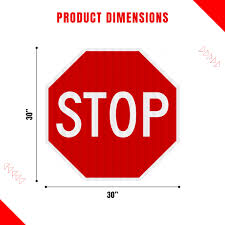stop sign: (48, 49, 179, 180)
